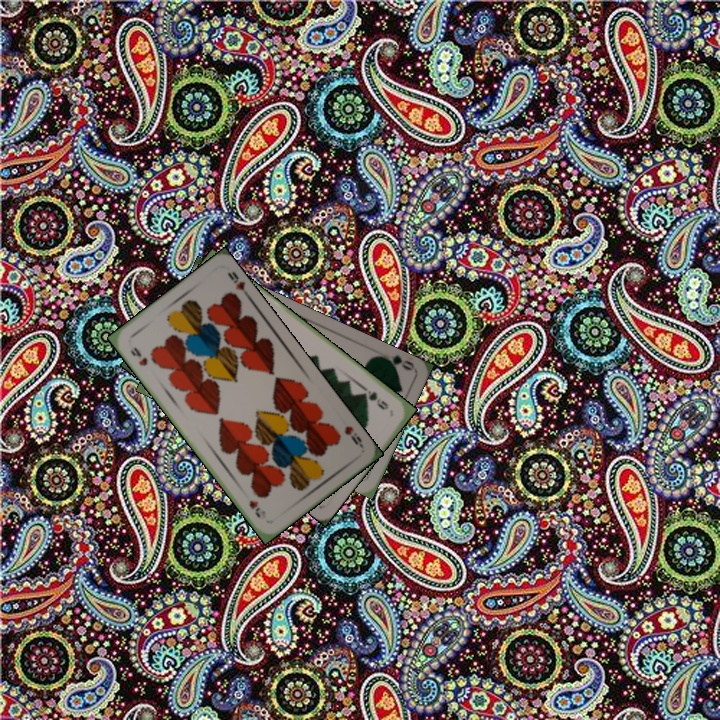G9: (359, 384, 391, 412)
GO: (375, 351, 416, 373)
H9: (340, 422, 365, 450), (126, 343, 150, 369)
